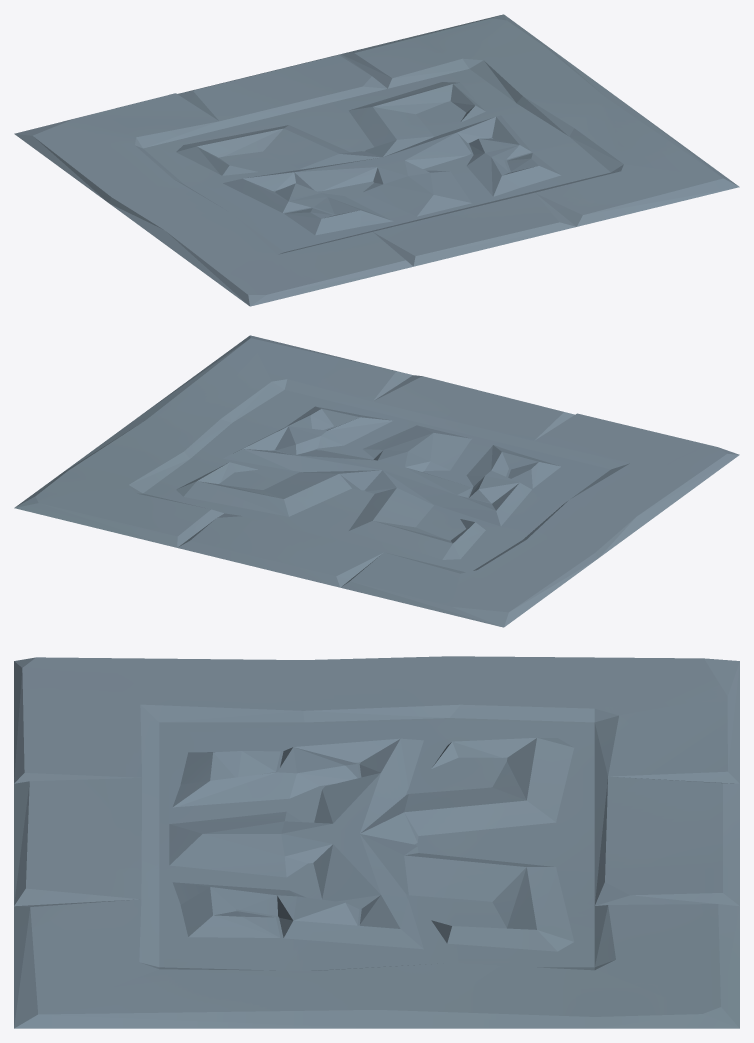
The model's file is Floor_110.fbx.
3 renders of one model, top to bottom at view 1: azimuth 30°, elevation 25°; view 2: azimuth 150°, elevation 25°; view 3: azimuth 270°, elevation 25°, orthographic. The views are drawn at different scales.
Visible parts, largest first — view 1: terrain_ground_110; view 2: terrain_ground_110; view 3: terrain_ground_110.
Boxes of the visible parts, left/top/right/bottom form: terrain_ground_110: left=14, top=14, right=739, bottom=306; terrain_ground_110: left=14, top=335, right=739, bottom=627; terrain_ground_110: left=14, top=656, right=739, bottom=1028.
Bounding box in the file's own units: 745 × 10.93 × 622.
Materials: 1 (1 with a texture image).
